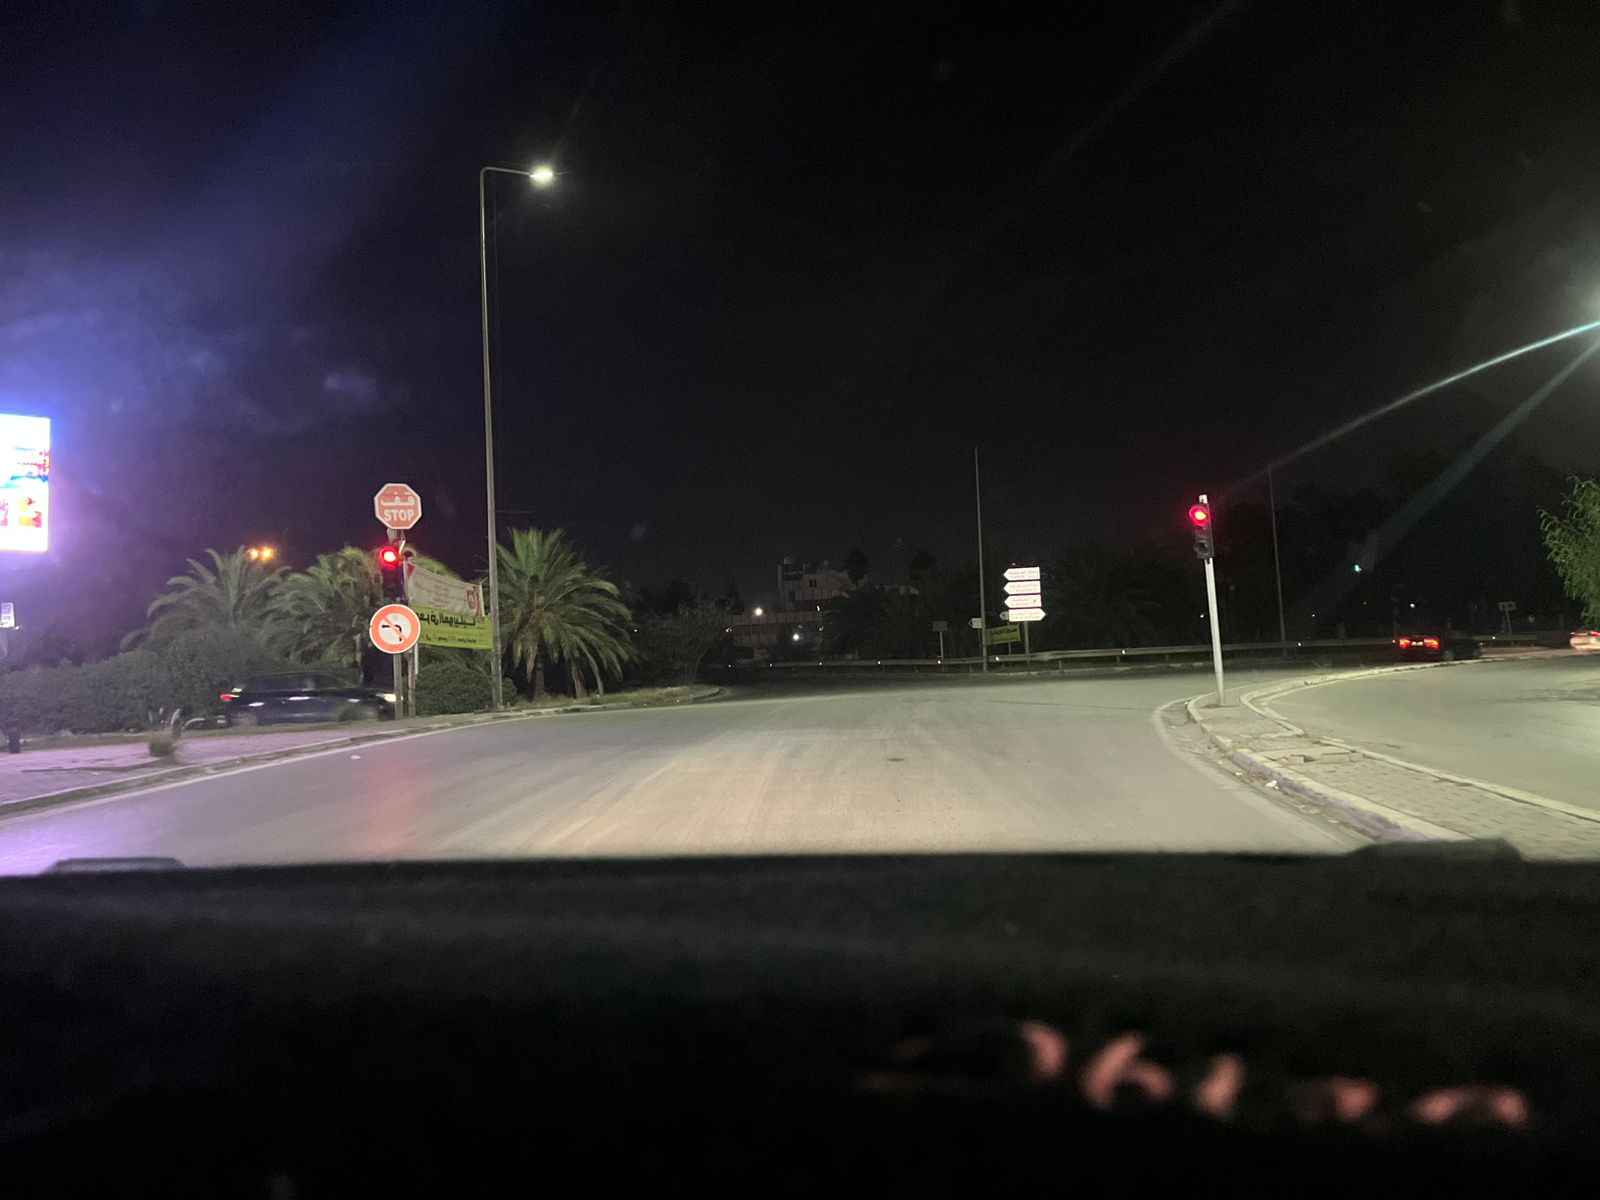RedLight: (1187, 500, 1213, 561), (380, 542, 402, 601)
Stop: (374, 483, 422, 531)
